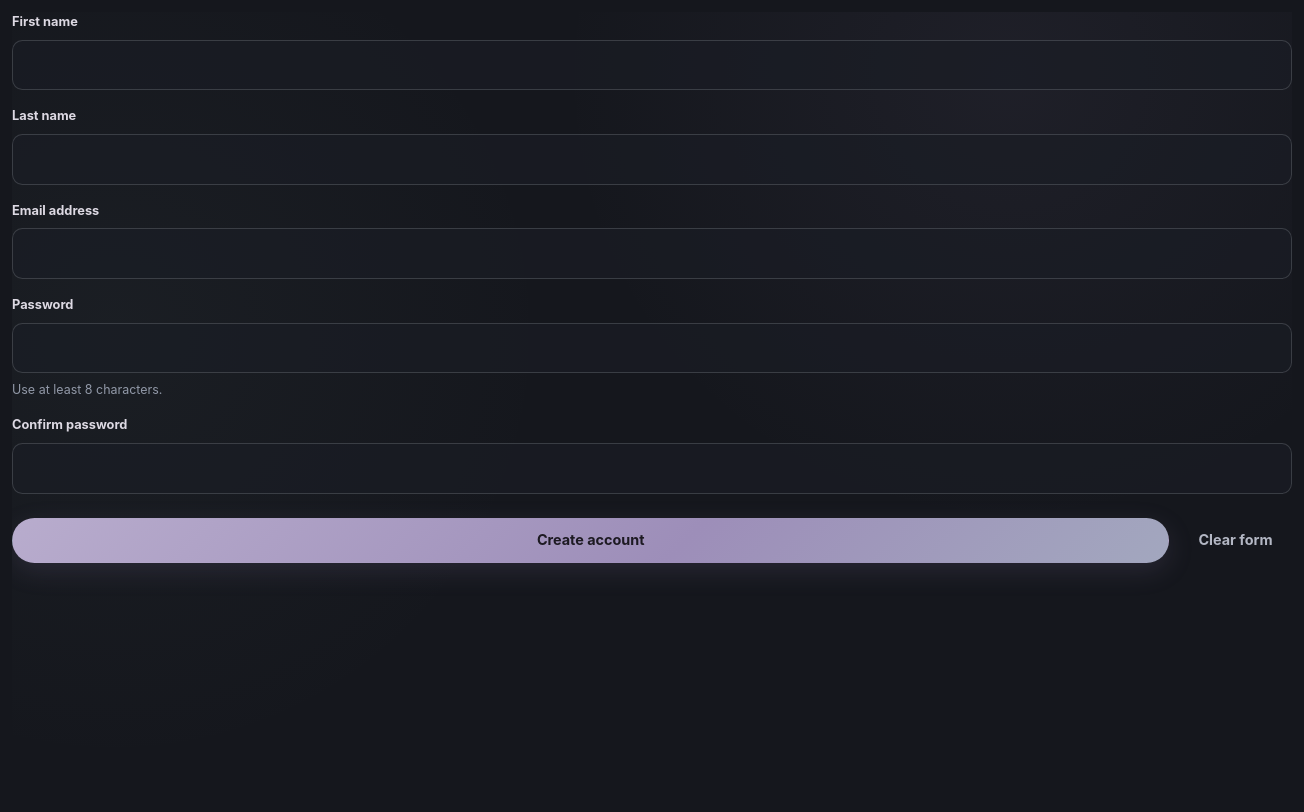
RegistrationForm › rejects a password shorter than eight characters
The width and height of the screenshot is (1304, 812).
Type "Amina" into the field labelled "First name".
click(652, 65); type("Amina")  # box [12, 40, 1292, 90]
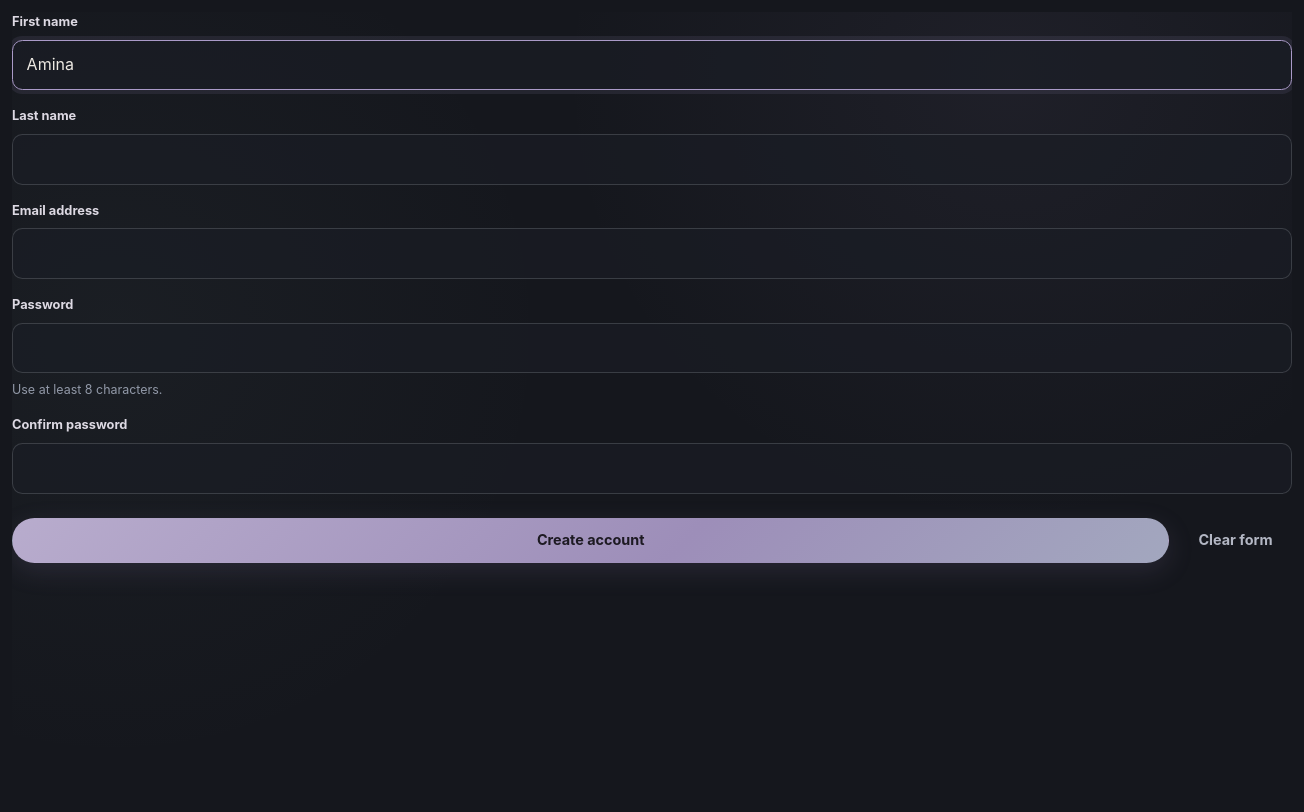
Type "Saleh" into the field labelled "Last name".
click(652, 159); type("Saleh")  # box [12, 134, 1292, 184]
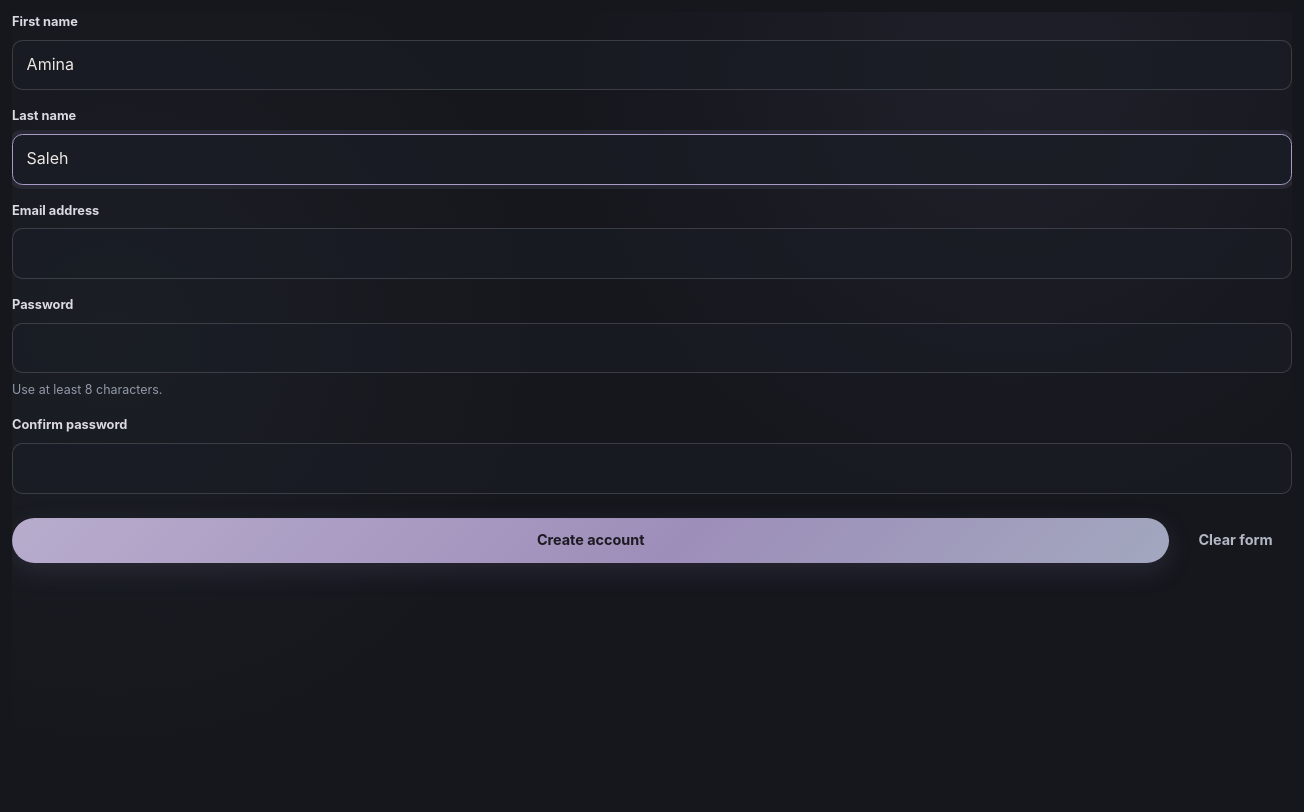
Type "viewer@example.com" into the field labelled "Email address".
click(652, 254); type("viewer@example.com")  # box [12, 228, 1292, 279]
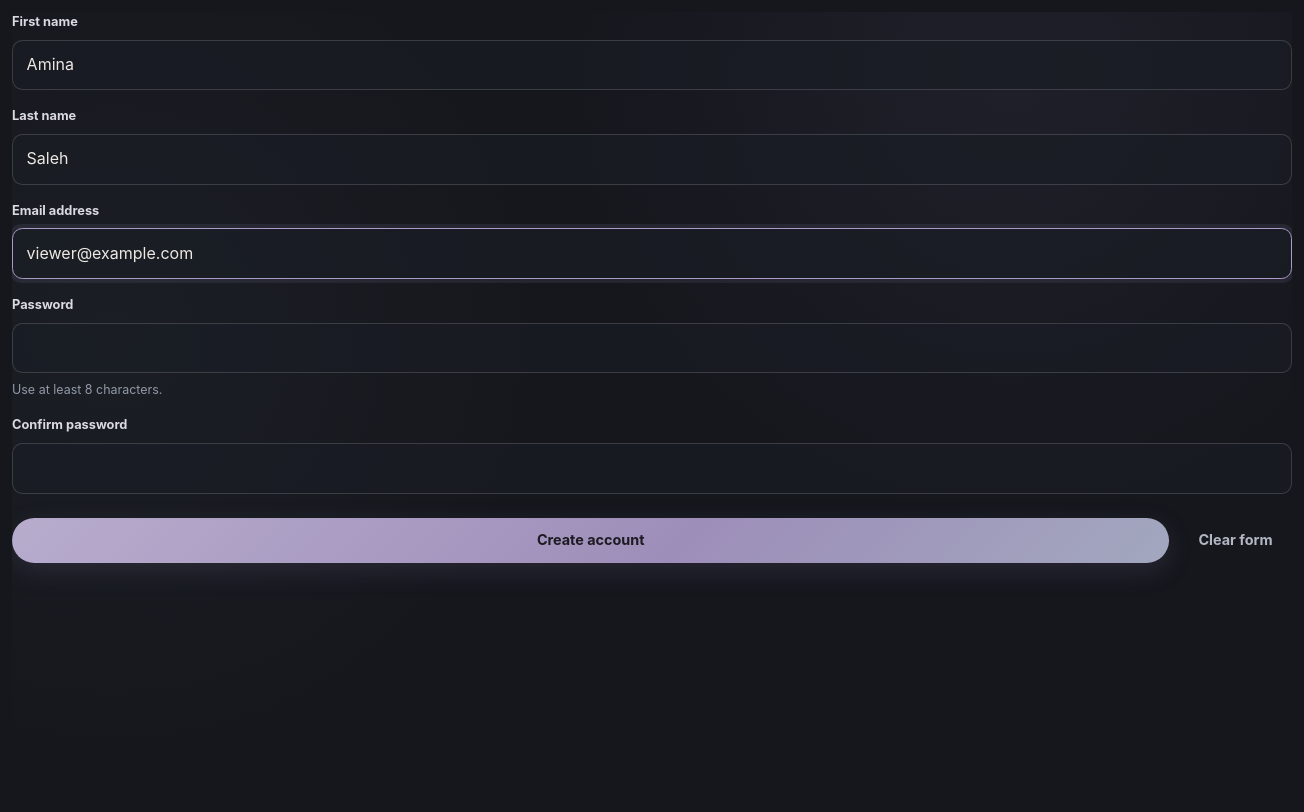
Type "short" into the password field labelled "Password".
click(652, 348); type("short")  # box [12, 322, 1292, 373]
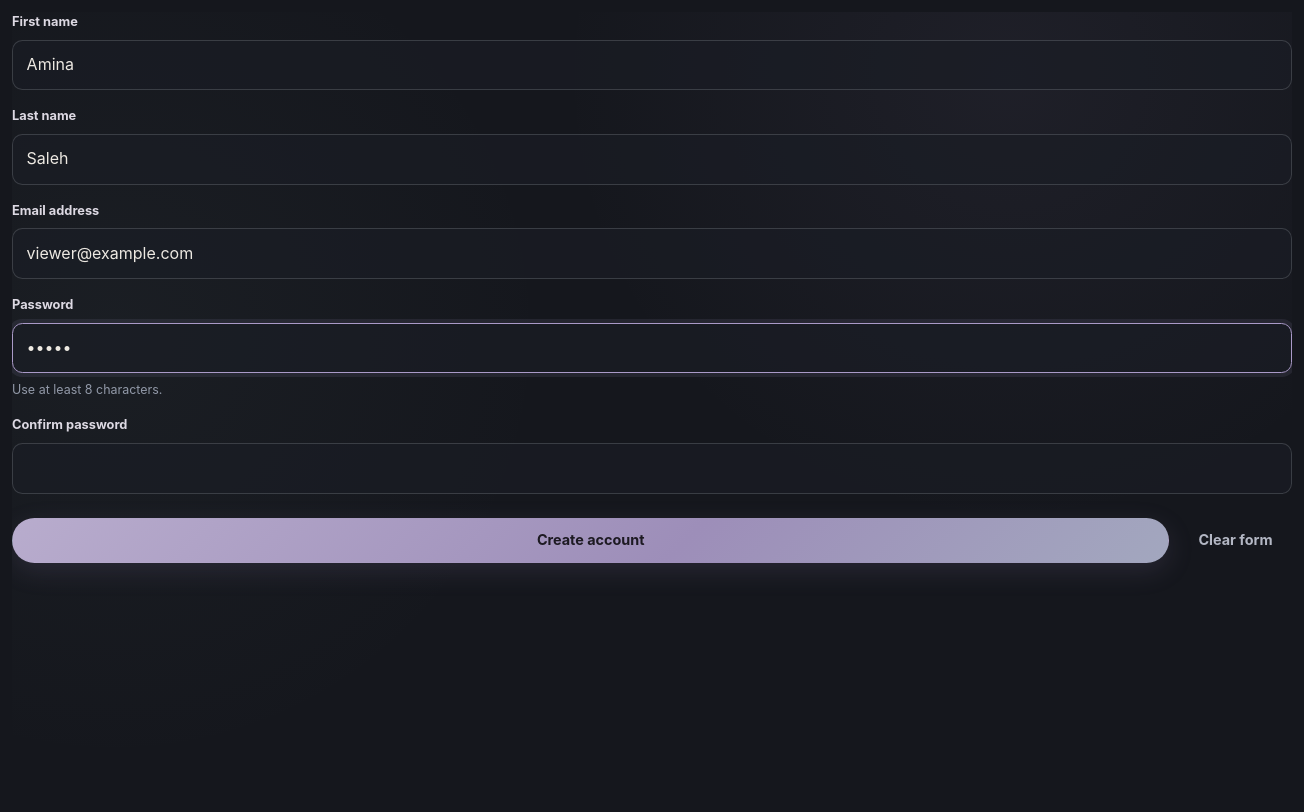
Type "short" into the password field labelled "Confirm password".
click(652, 468); type("short")  # box [12, 443, 1292, 494]
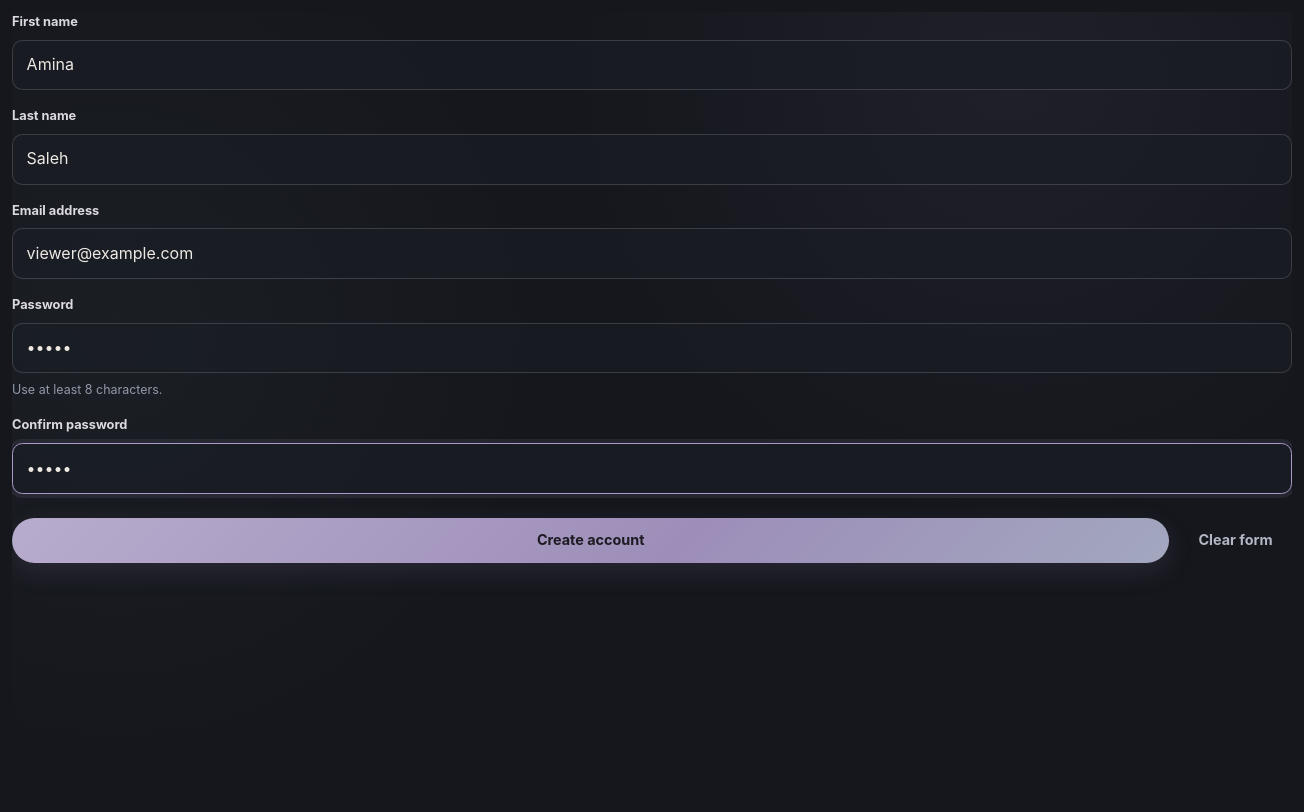
Click the button "Create account".
click(591, 541)  # box [12, 518, 1169, 563]
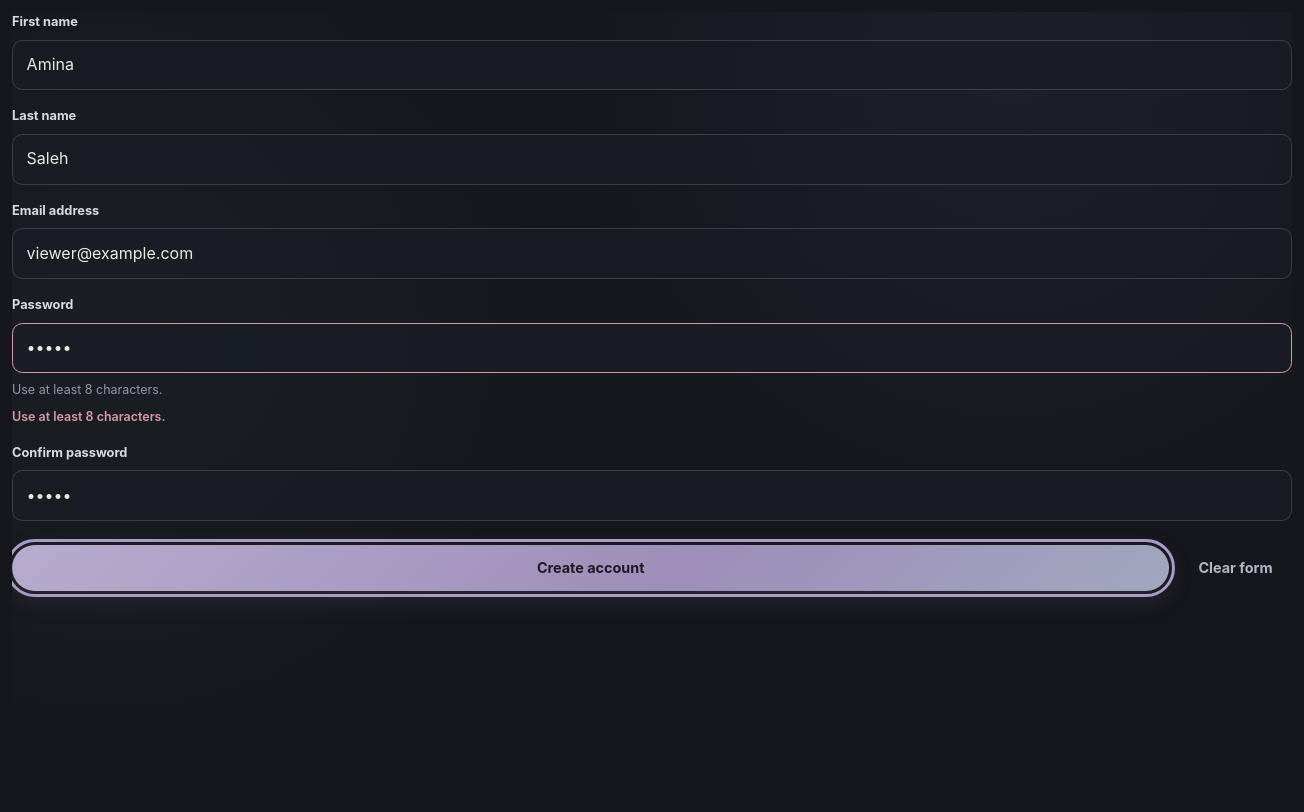
Result: the text with class "field-error" reads "Use at least 8 characters." at [12, 409, 165, 424]
